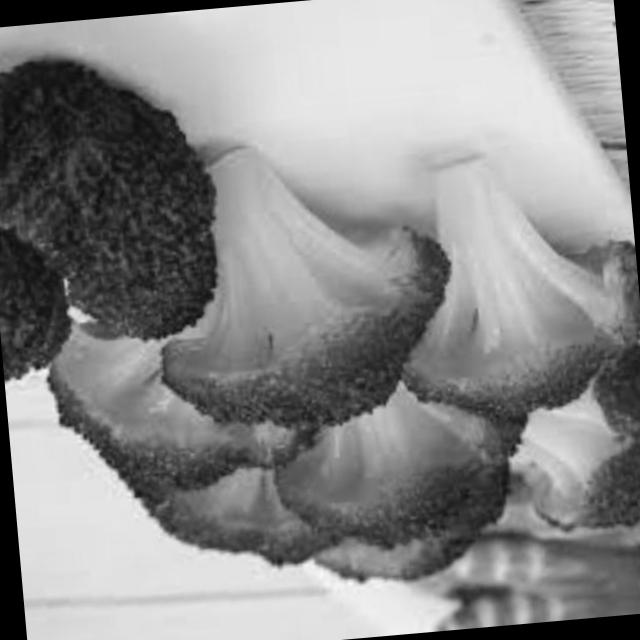broccoli: (78, 376, 640, 605), (143, 120, 496, 459), (376, 92, 640, 423), (0, 44, 209, 400)
